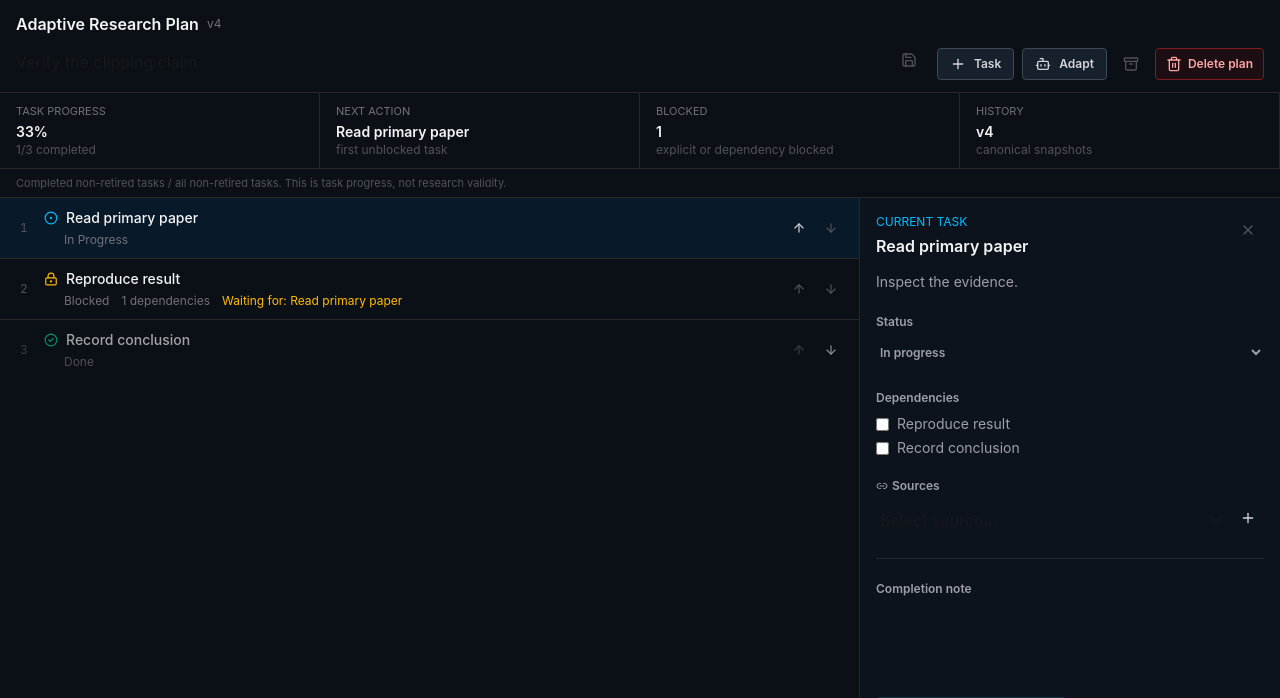
WorkspaceResearchPlanPage › explains that a title is required instead of silently disabling task creation
Expected: the text "33%" is shown, x1=16 y1=122 x2=48 y2=140
Click the button "Task": click(976, 64) x1=937 y1=48 x2=1014 y2=80
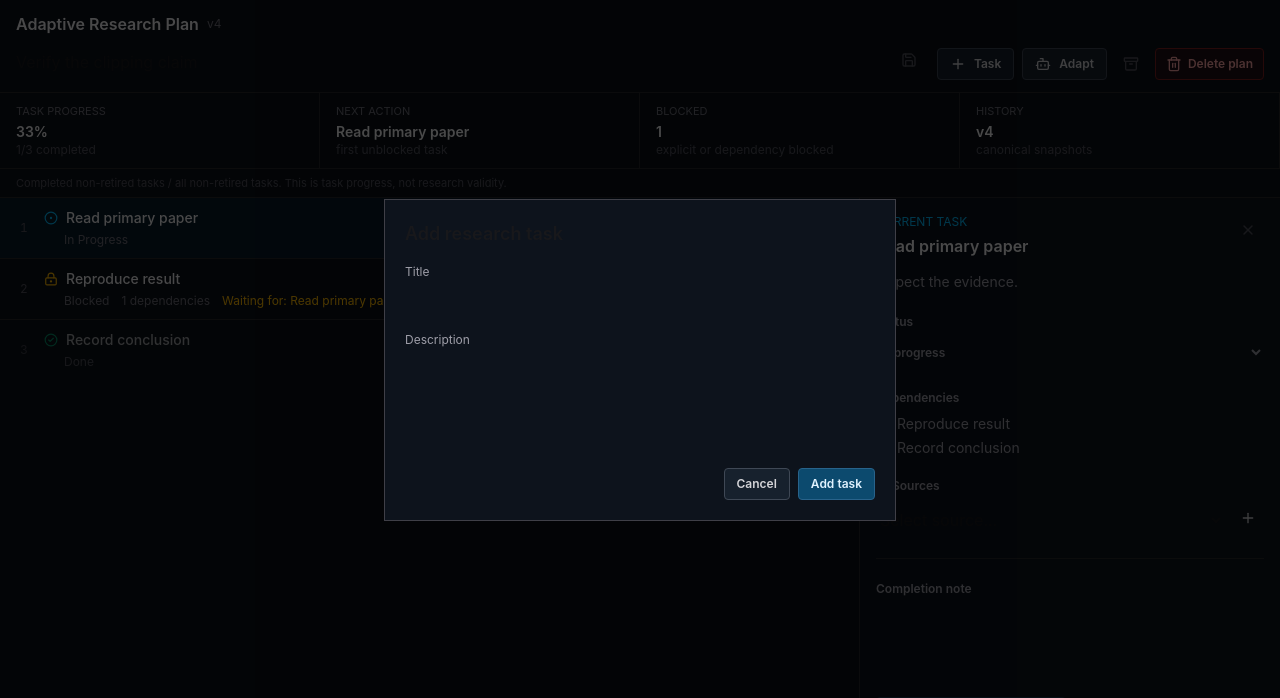
Click the button "Add task": click(836, 484) x1=798 y1=468 x2=875 y2=500
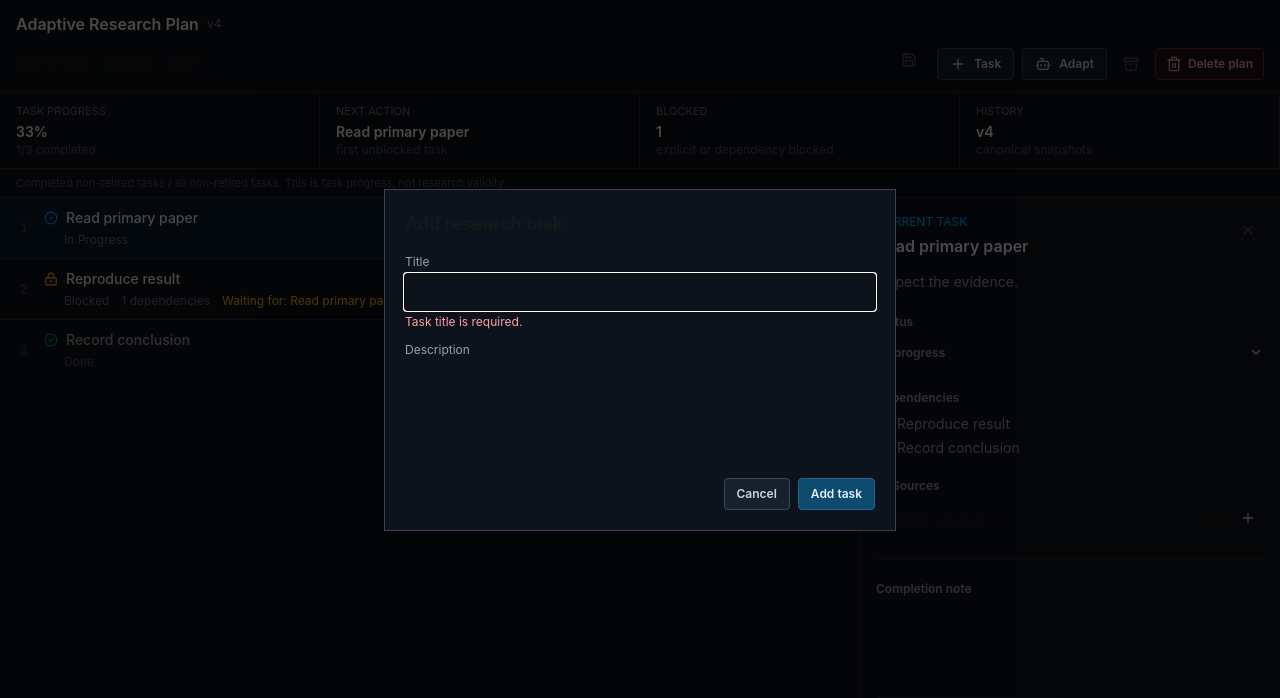
Expected: the message reads "Task title is required.", x1=405 y1=314 x2=522 y2=329
